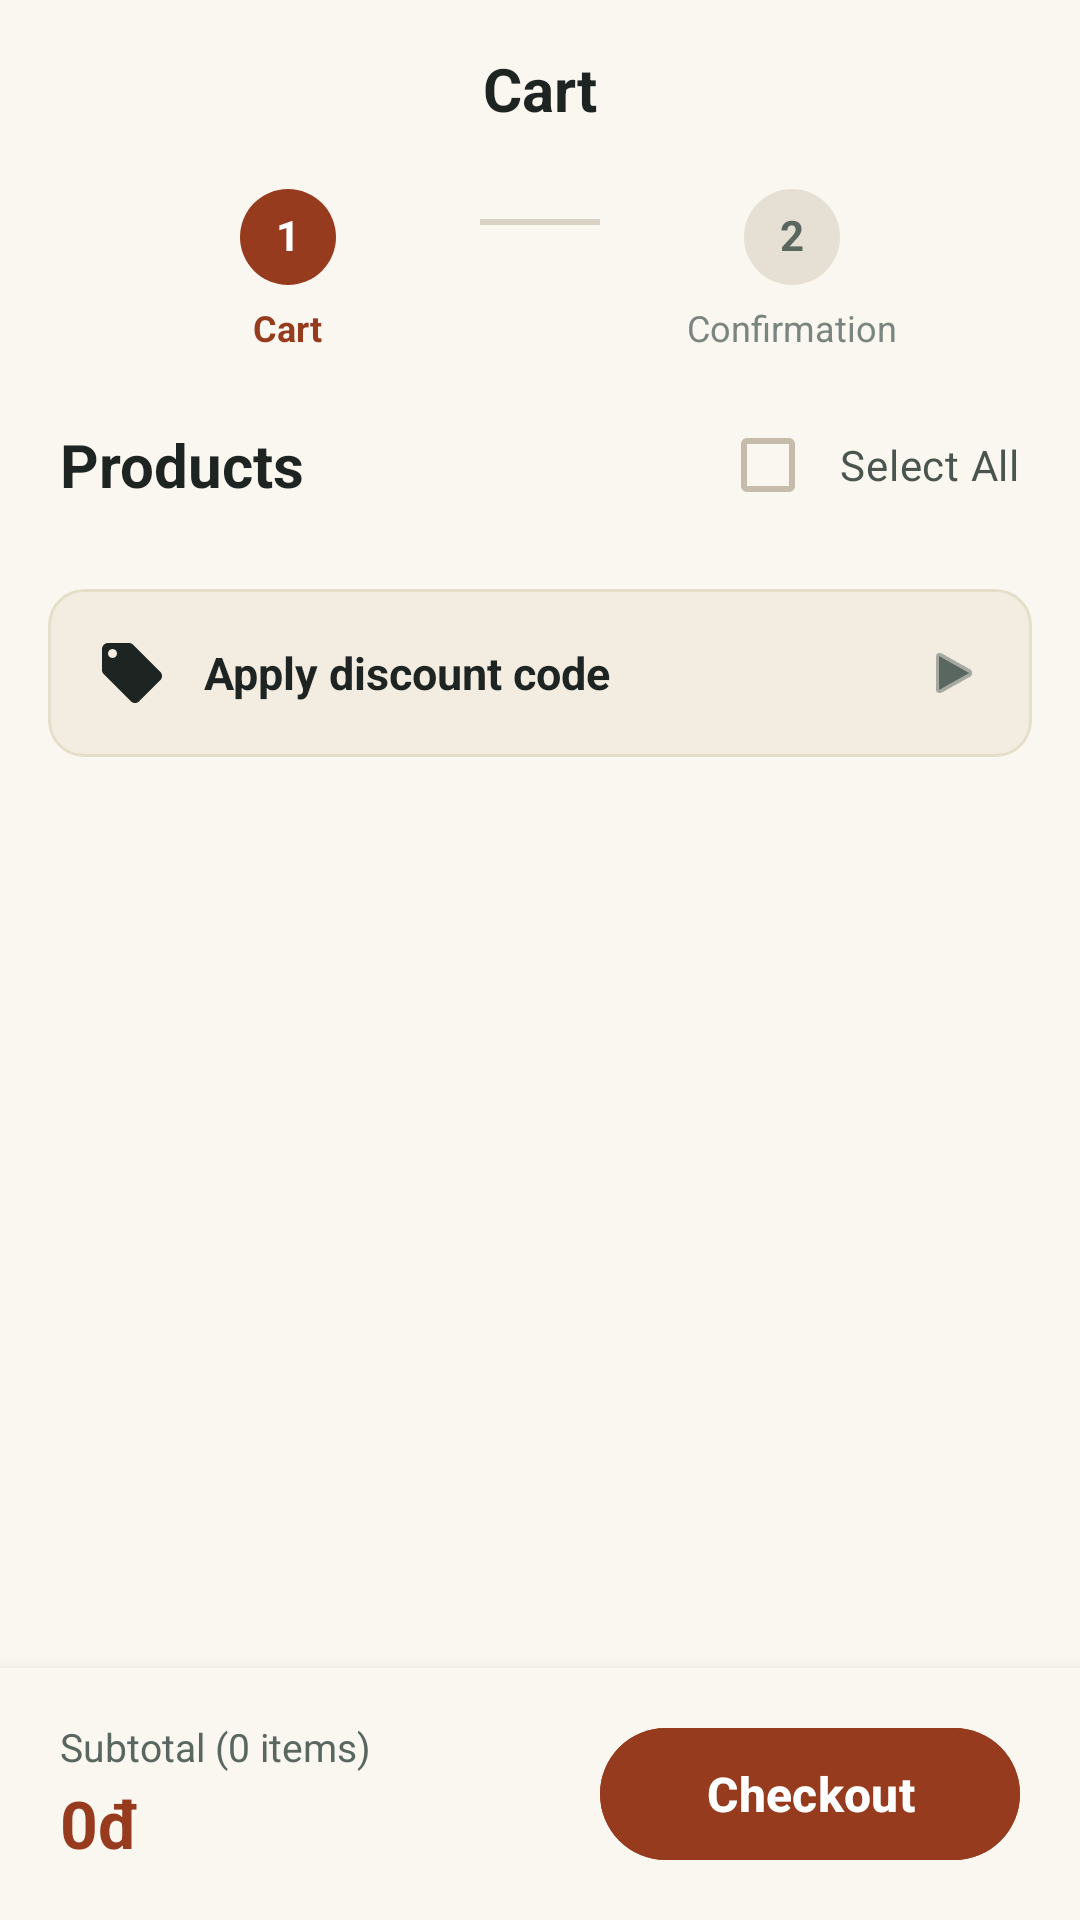

Named icons in this screenshot (1080px x 1920px) and their bounding boxes, (left=x1, top=y1, right=x2, bottom=y2):
play: (left=936, top=653, right=972, bottom=693)
voucher tag: (left=102, top=643, right=162, bottom=703)
